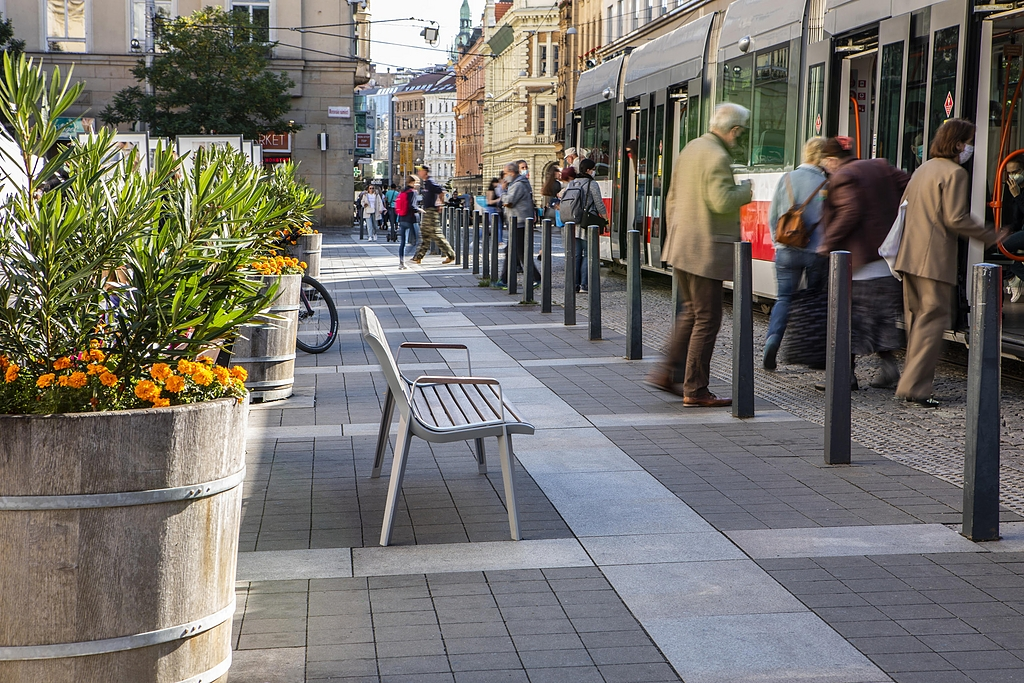Chair: (349, 297, 539, 552)
Person: (650, 104, 762, 428), (893, 112, 980, 414), (818, 142, 906, 378), (772, 137, 824, 368), (556, 160, 615, 279), (415, 164, 453, 270), (360, 185, 392, 252)
